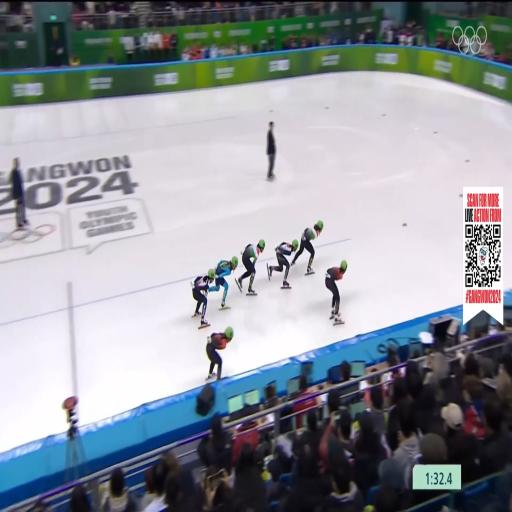Skater: (292, 221, 323, 274), (237, 239, 265, 294), (209, 256, 238, 309), (267, 240, 298, 288), (207, 327, 233, 380), (326, 260, 347, 325), (191, 269, 214, 328)
